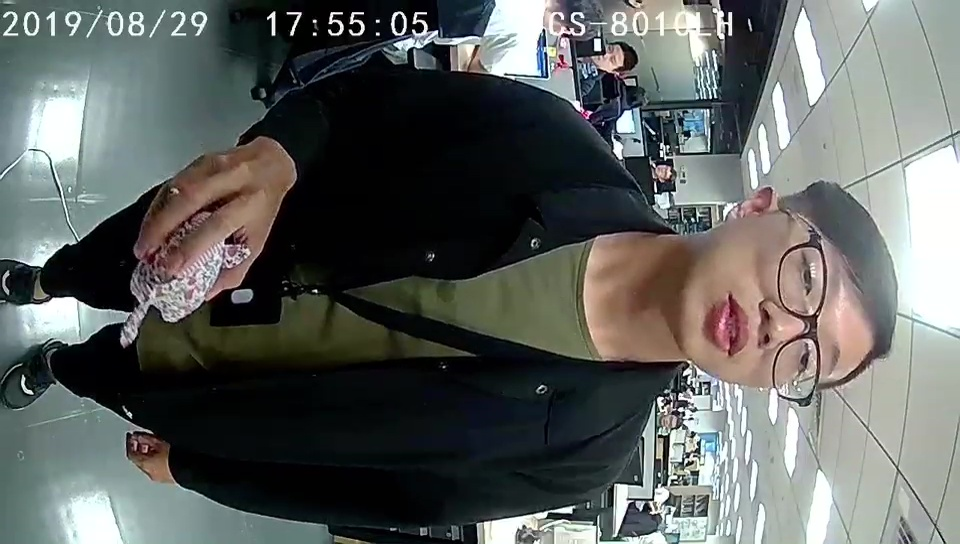pig: (129, 207, 252, 321)
